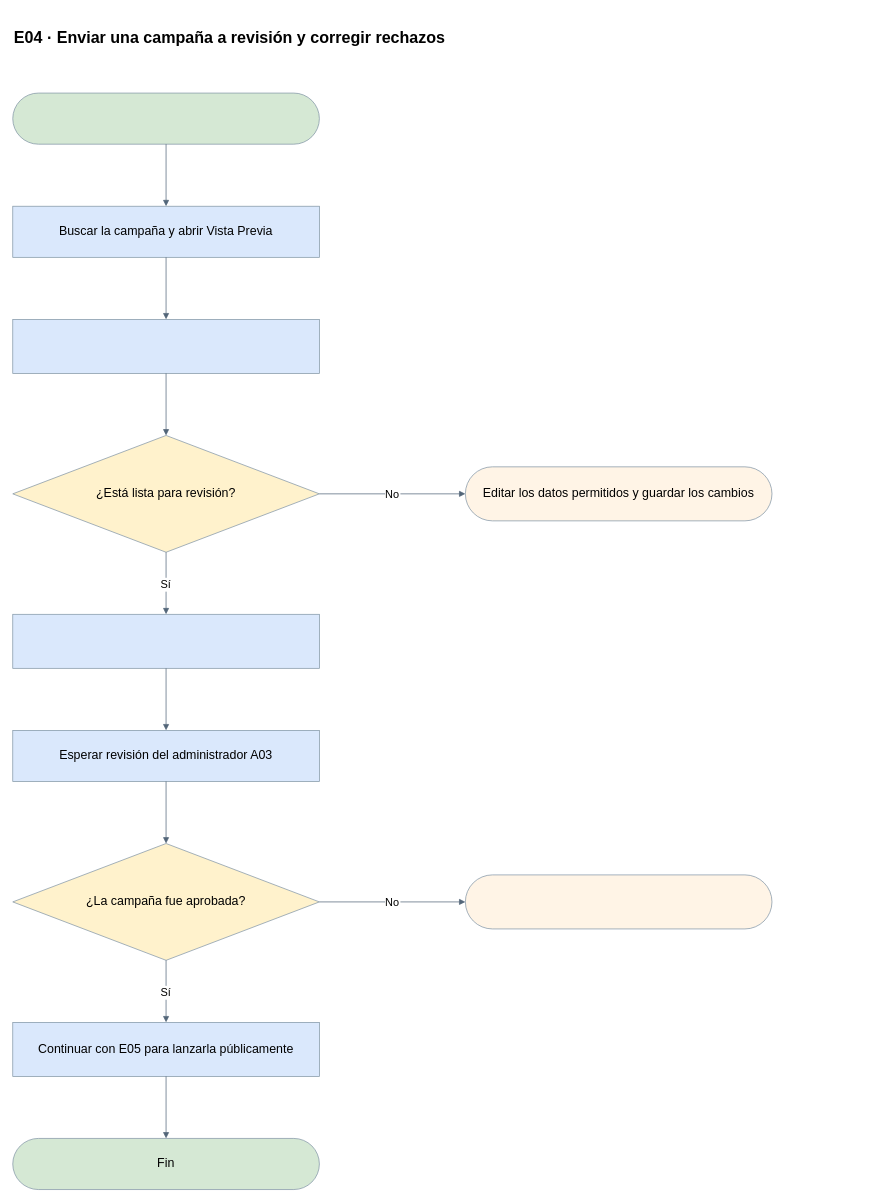
The diagram is 887 pixels wide and 1202 high, and some of its shapes have lost their labels. The centre of each missing label's shape, as x and y in pixels:
"Inicio" goes at point (165, 118).
"Pendiente: esperar. Rechazada: leer el motivo, corregir con E06 y reenviar" goes at point (618, 901).
"Pulsar Enviar Revisión y comprobar el estado pendiente" goes at point (165, 641).
"Revisar Detalles de Proyecto, Documentación e historial" goes at point (165, 346).
